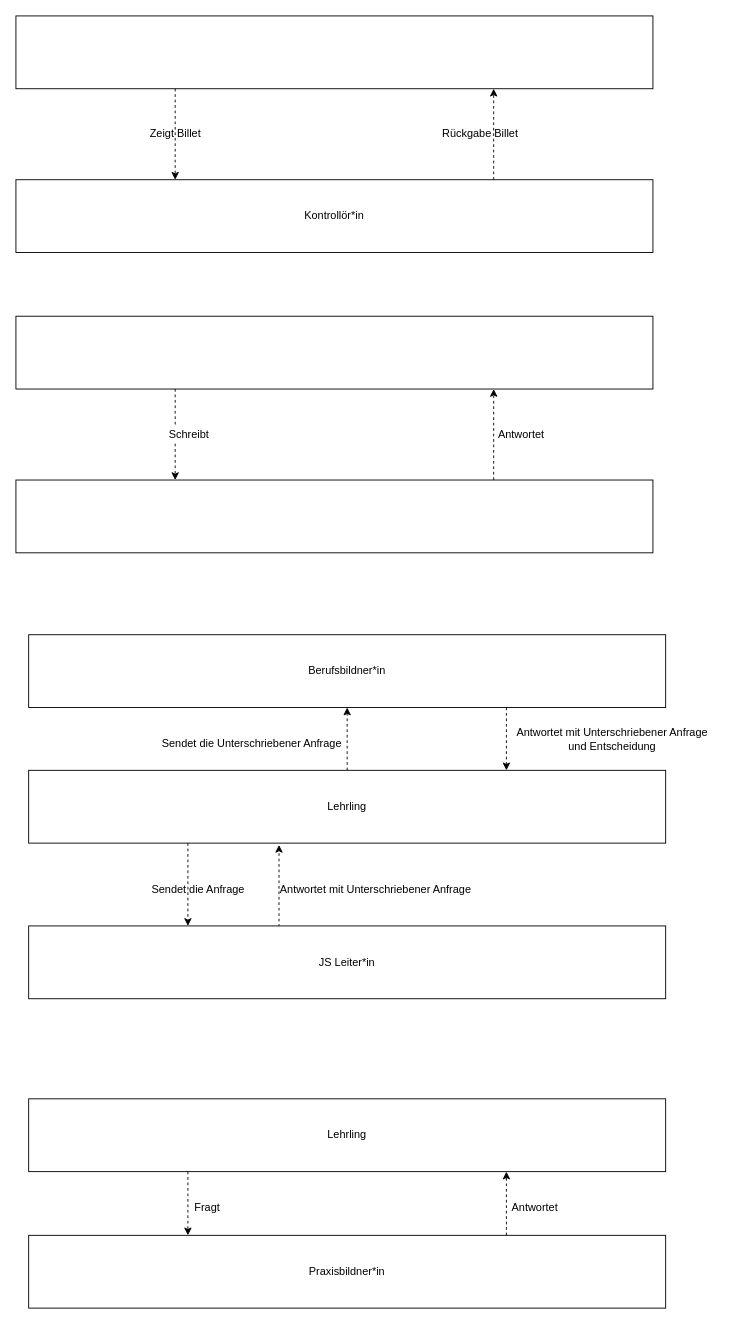
Image size: 733x1324. Some labels were removed from this diagram. The centre of each missing label's shape, as x and y in pixels:
"Entwickler*in" belongs at point 334,352.
"Kunde*in" belongs at point 334,52.
"PO" belongs at point 334,516.
